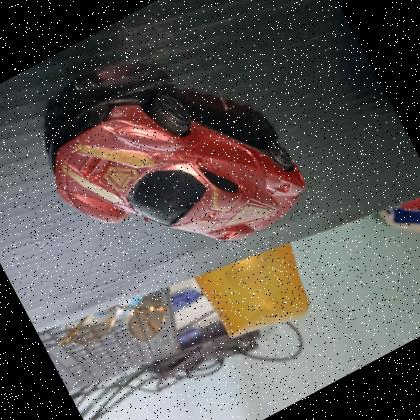Car: (20, 24, 323, 314)
